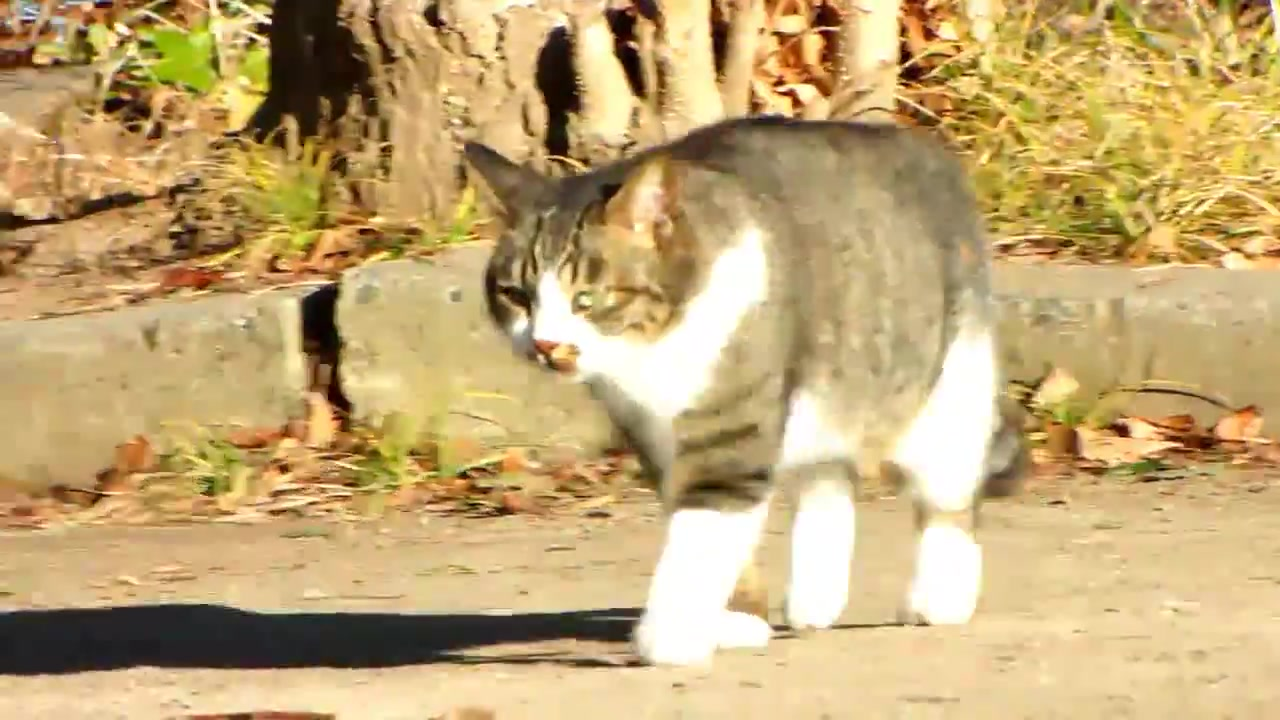cat: (462, 118, 1003, 667)
